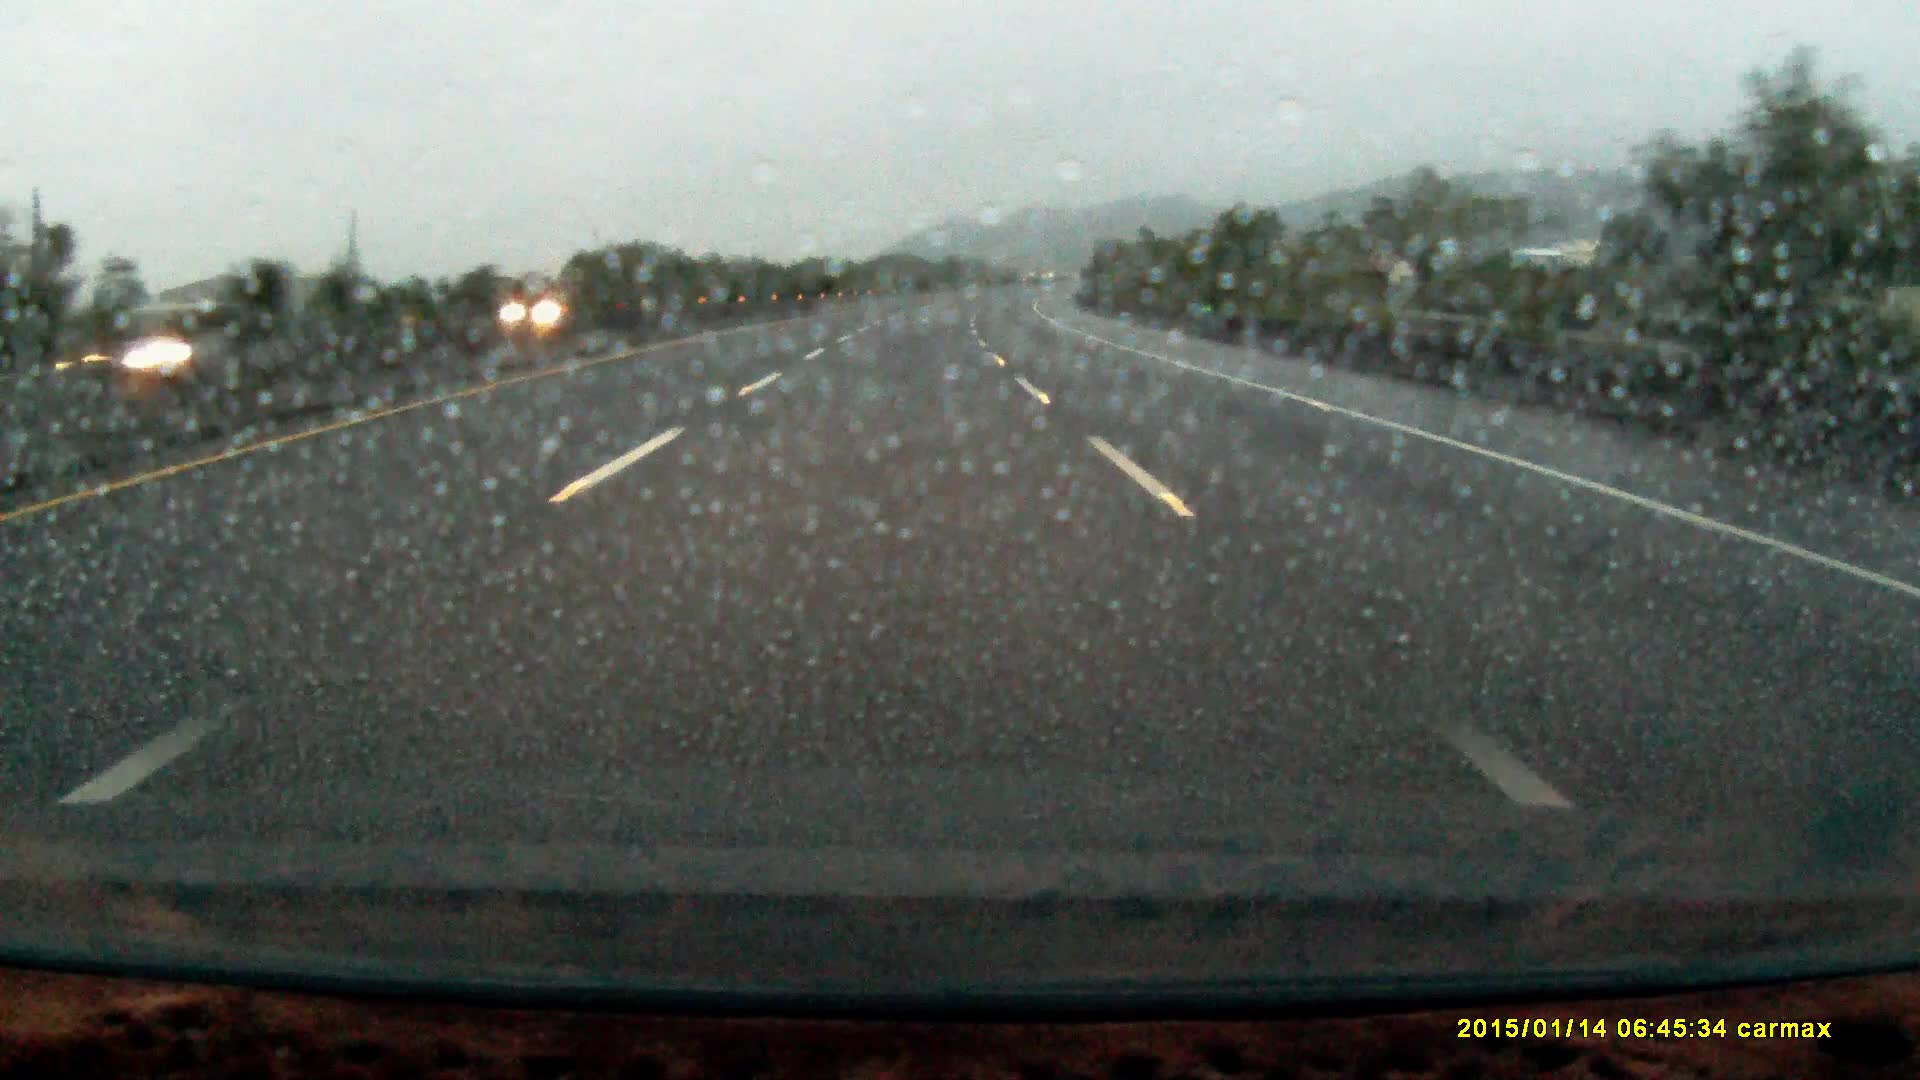vehicle: (51, 299, 272, 378), (498, 294, 582, 328)
